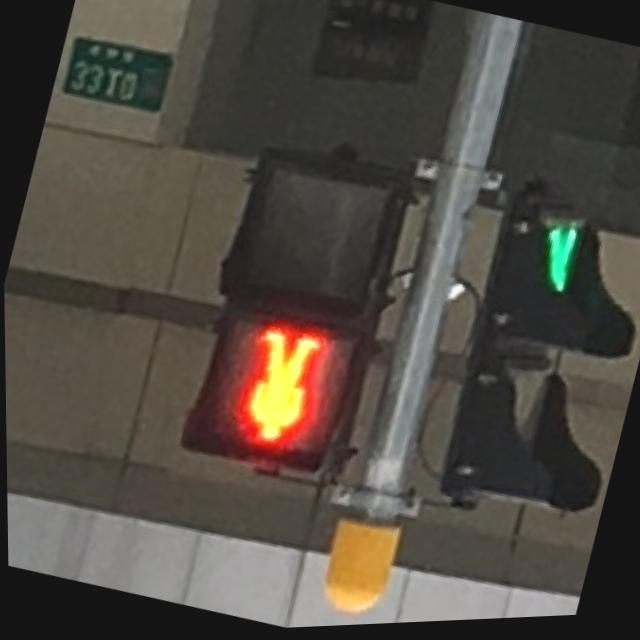red_light: (194, 308, 352, 472)
